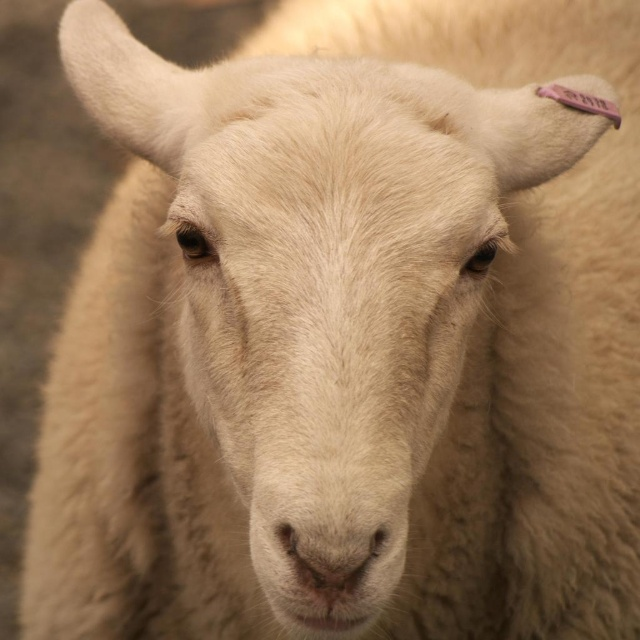Sheep: (16, 0, 640, 640)
